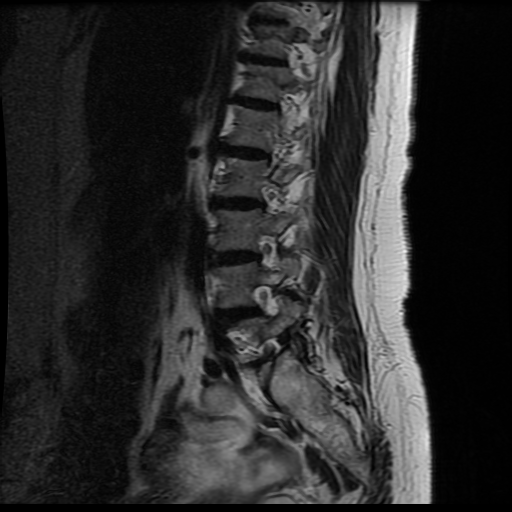RFS0: (247, 223, 290, 274), (244, 277, 289, 325)
